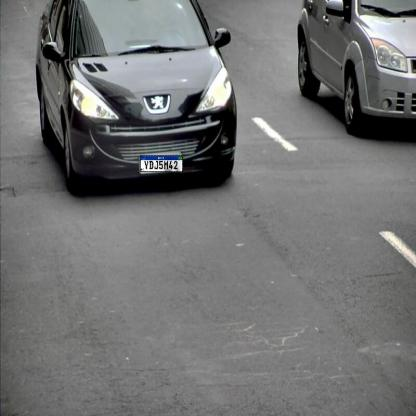PlacaM: (140, 155, 183, 172)
